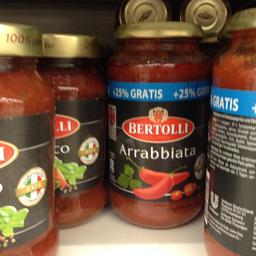tomato_sauce: (102, 18, 212, 228), (38, 30, 108, 228), (199, 6, 255, 246)
